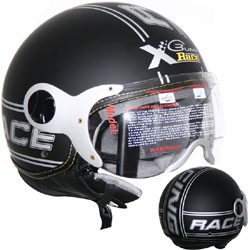helmet: (11, 4, 212, 171), (159, 168, 243, 243)
